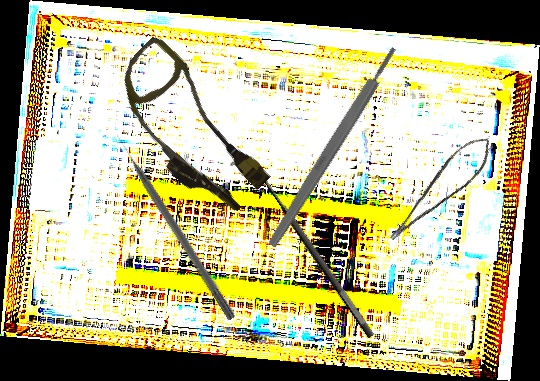Cannula: (93, 33, 287, 225)
Hook Surgical: (228, 146, 378, 349)
Micro Scissor: (373, 129, 503, 245)
Pusher: (112, 130, 239, 322)
Scalpel Handle: (265, 44, 401, 250)
